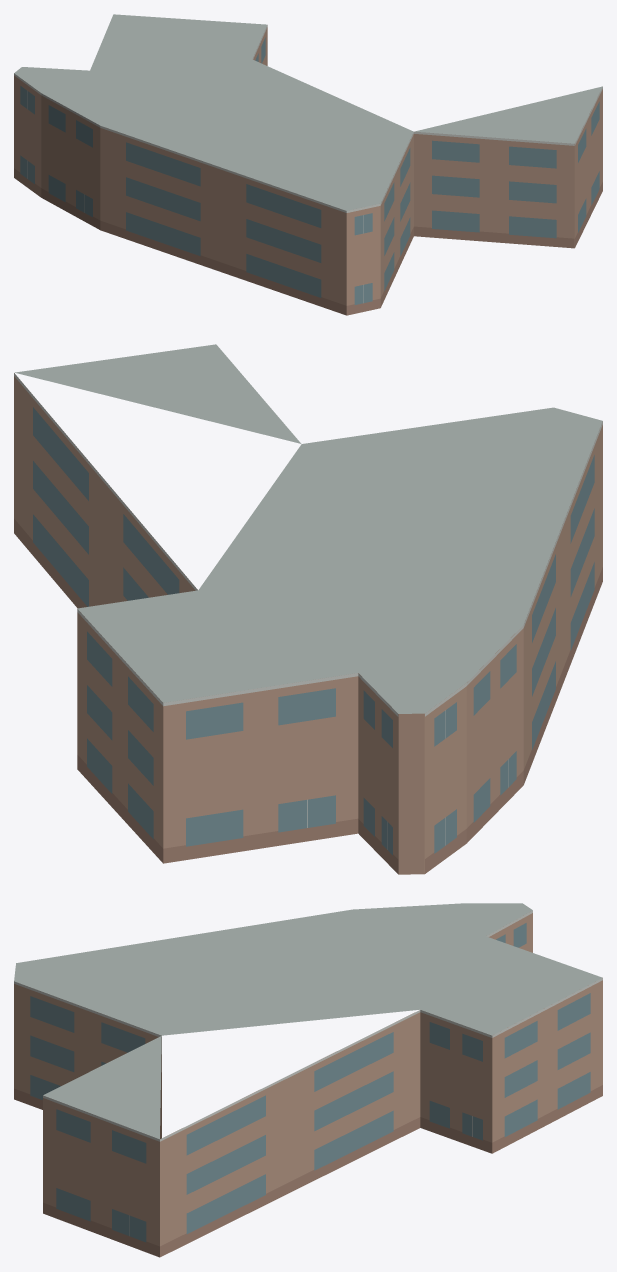
Rendered from survey-upis-32470616.glb.
3 views of the same model, one above another, from view 1: azimuth 30°, elevation 25°; view 2: azimuth 150°, elevation 25°; view 3: azimuth 270°, elevation 25° (orthographic). The views are drawn at different scales.
Parts seen in each view (by area): view 1: survey-upis-32470616.tmp; view 2: survey-upis-32470616.tmp; view 3: survey-upis-32470616.tmp.
Part boxes in pixels (box(x1,y1,x2,y2)): survey-upis-32470616.tmp: box(14, 14, 602, 315); survey-upis-32470616.tmp: box(14, 344, 602, 874); survey-upis-32470616.tmp: box(14, 903, 602, 1257).
Size of the model in its own units: 50.55 by 11.8 by 53.31.
